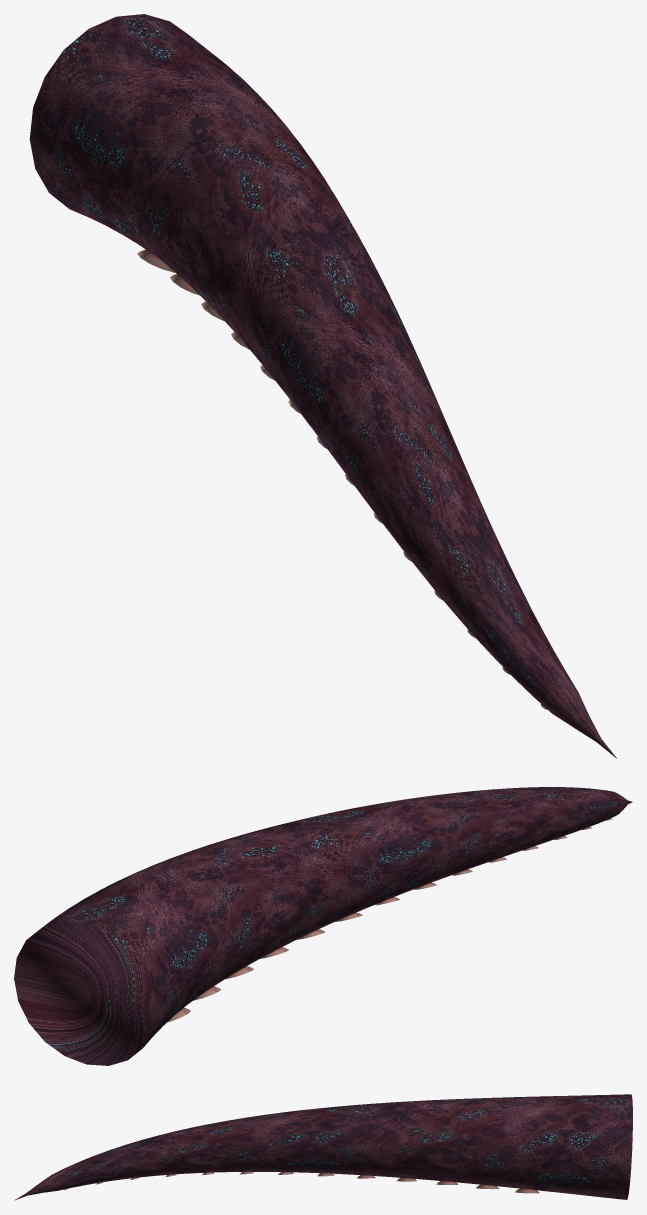
File: kraken_tentacle_variant_04.obj
3 renders of one model, top to bottom at view 1: azimuth 30°, elevation 25°; view 2: azimuth 150°, elevation 25°; view 3: azimuth 270°, elevation 25°, orthographic. The views are drawn at different scales.
Visible parts, largest first — view 1: Tentacle_Variant_04; view 2: Tentacle_Variant_04; view 3: Tentacle_Variant_04.
Part boxes in pixels (bbox=[...]): Tentacle_Variant_04: bbox=[29, 14, 616, 758]; Tentacle_Variant_04: bbox=[14, 787, 632, 1065]; Tentacle_Variant_04: bbox=[14, 1094, 632, 1200].
Size of the model in its own units: 2.55 by 2.54 by 10.92.
3 materials, 3 textured.
